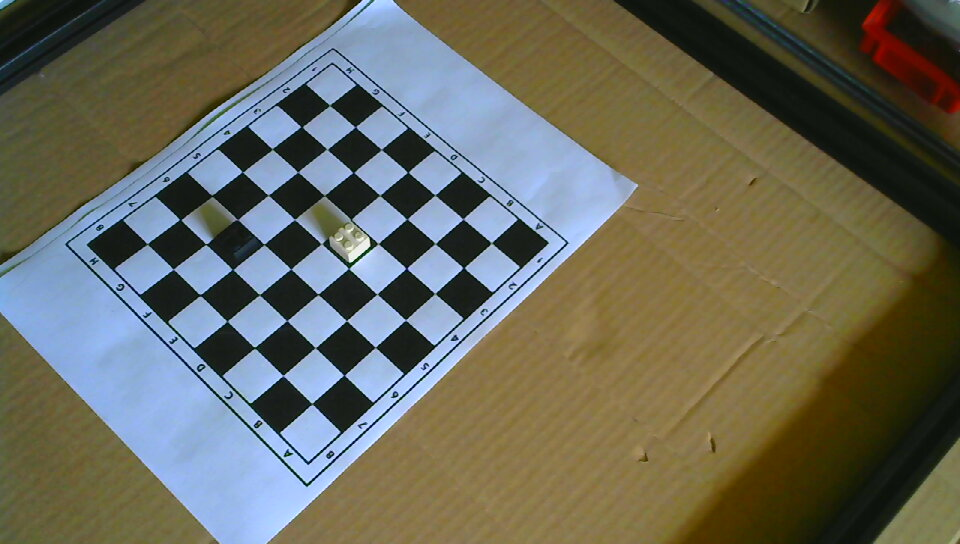bp: (212, 219, 260, 264)
wp: (327, 220, 371, 263)
